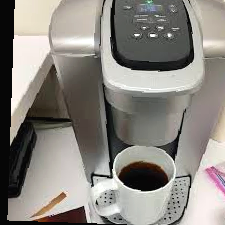10oz: (149, 32, 159, 40)
12oz: (165, 32, 175, 40)
4oz: (139, 24, 149, 31)
6oz: (155, 25, 165, 32)
8oz: (132, 32, 142, 39)
